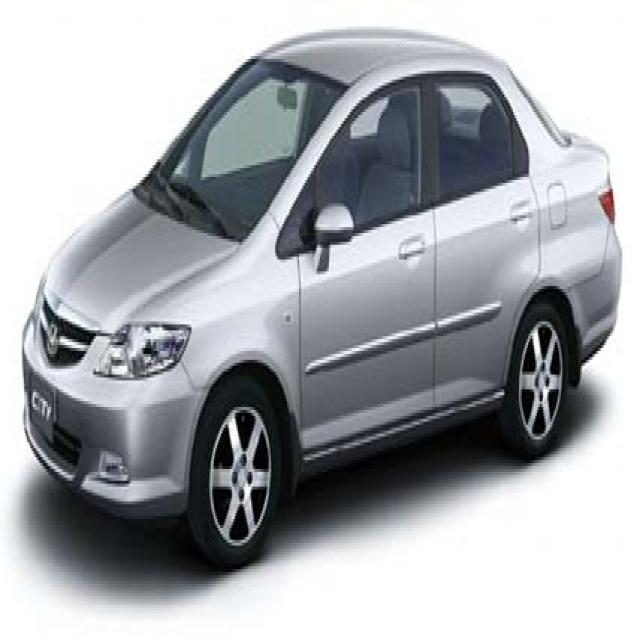Car: (18, 23, 624, 568)
